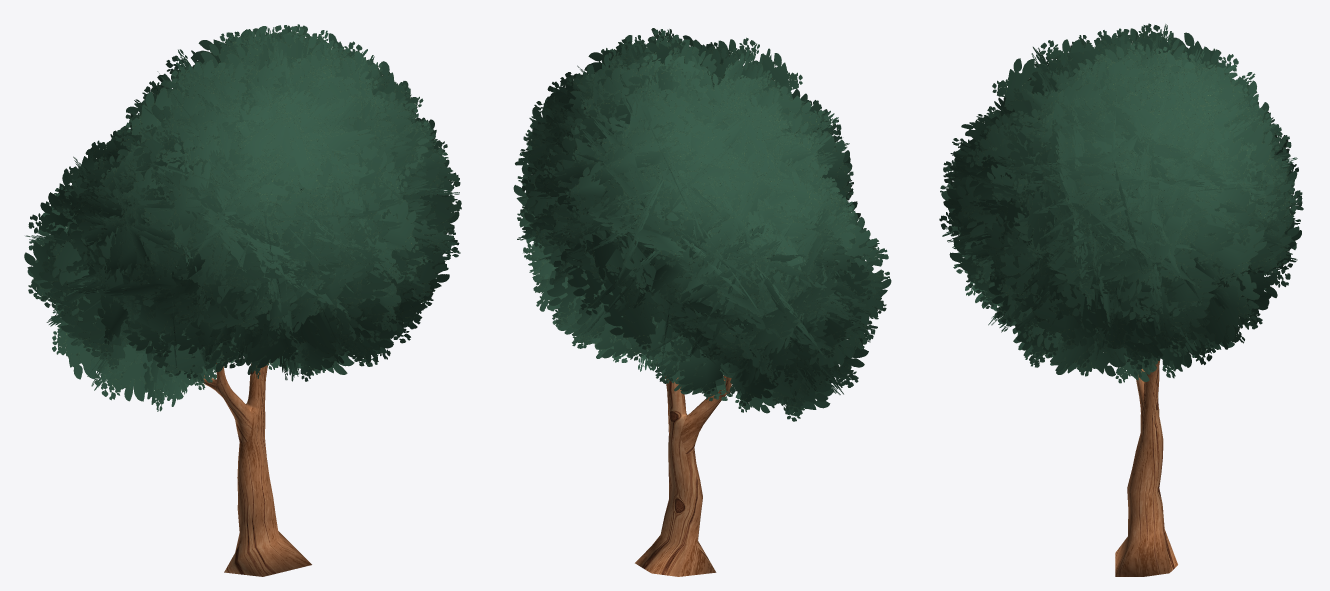
File: SM_Env_TreeGreen1.fbx
The picture shows the model from 3 angles, left to right: view 1: azimuth 30°, elevation 25°; view 2: azimuth 150°, elevation 25°; view 3: azimuth 270°, elevation 25°; orthographic projection. The views are drawn at different scales.
Parts seen in each view (by area): view 1: SM_Env_TreeGreen1; view 2: SM_Env_TreeGreen1; view 3: SM_Env_TreeGreen1.
Part boxes in pixels (x1=…): SM_Env_TreeGreen1: x1=24, y1=24, x2=461, y2=576; SM_Env_TreeGreen1: x1=513, y1=28, x2=891, y2=576; SM_Env_TreeGreen1: x1=939, y1=23, x2=1303, y2=576.
Size of the model in its own units: 317 by 416 by 273.
